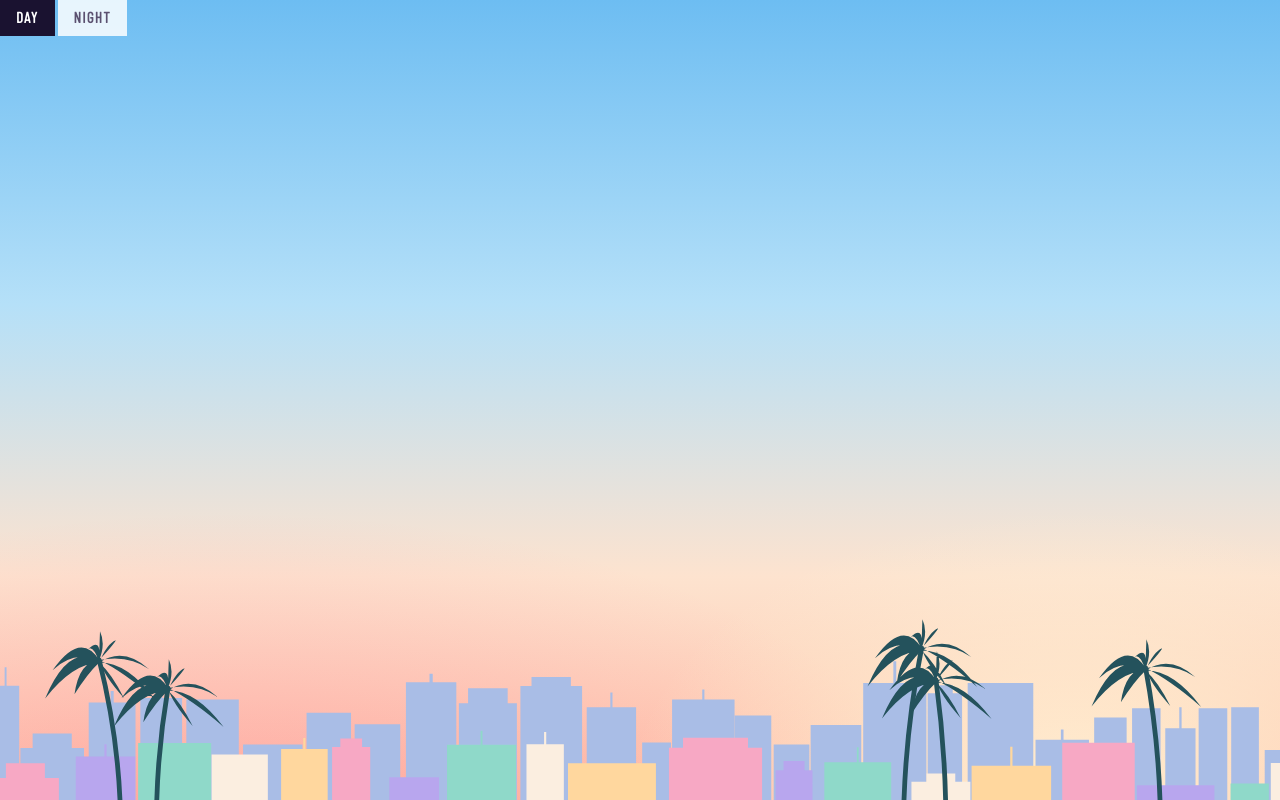
Test: ThemeSwitch › shows the system setting until the user picks a theme, then applies and remembers the choice
This screenshot has width=1280, height=800.
Later steps or results of the test are not shown.
Click the button "Night" at (92, 18), box [58,0,127,36]
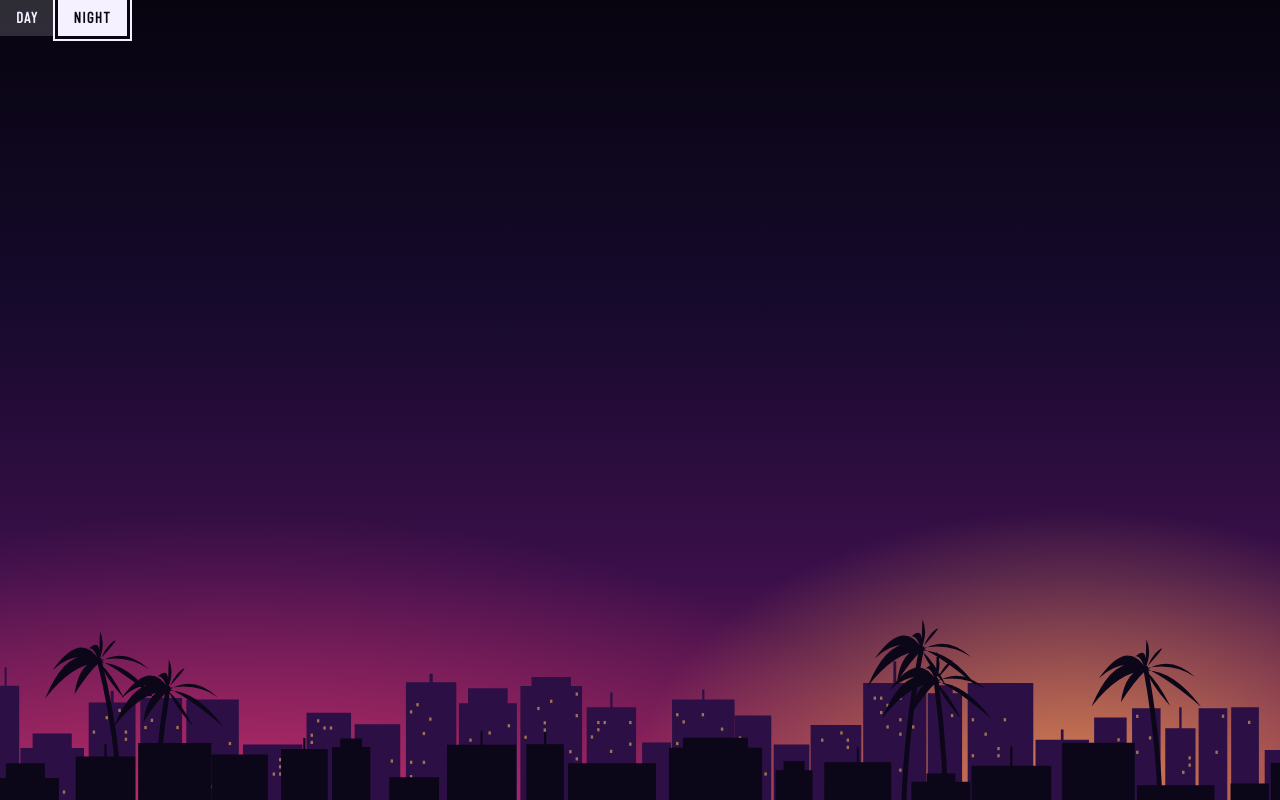
Expected: the button "Night" is pressed, [58,0,127,36]
Expected: the button "Day" is not pressed, [0,0,54,36]
